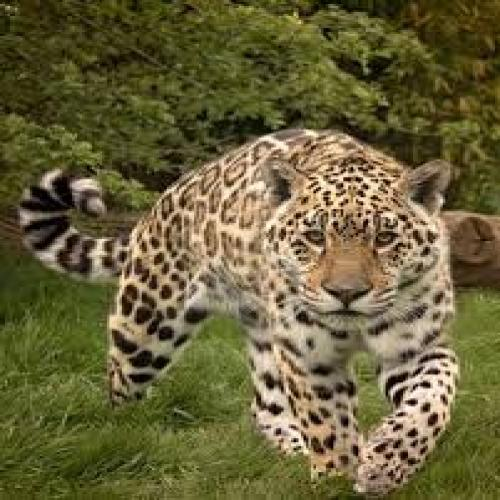jaguar_not-endangered: (105, 133, 463, 481)
